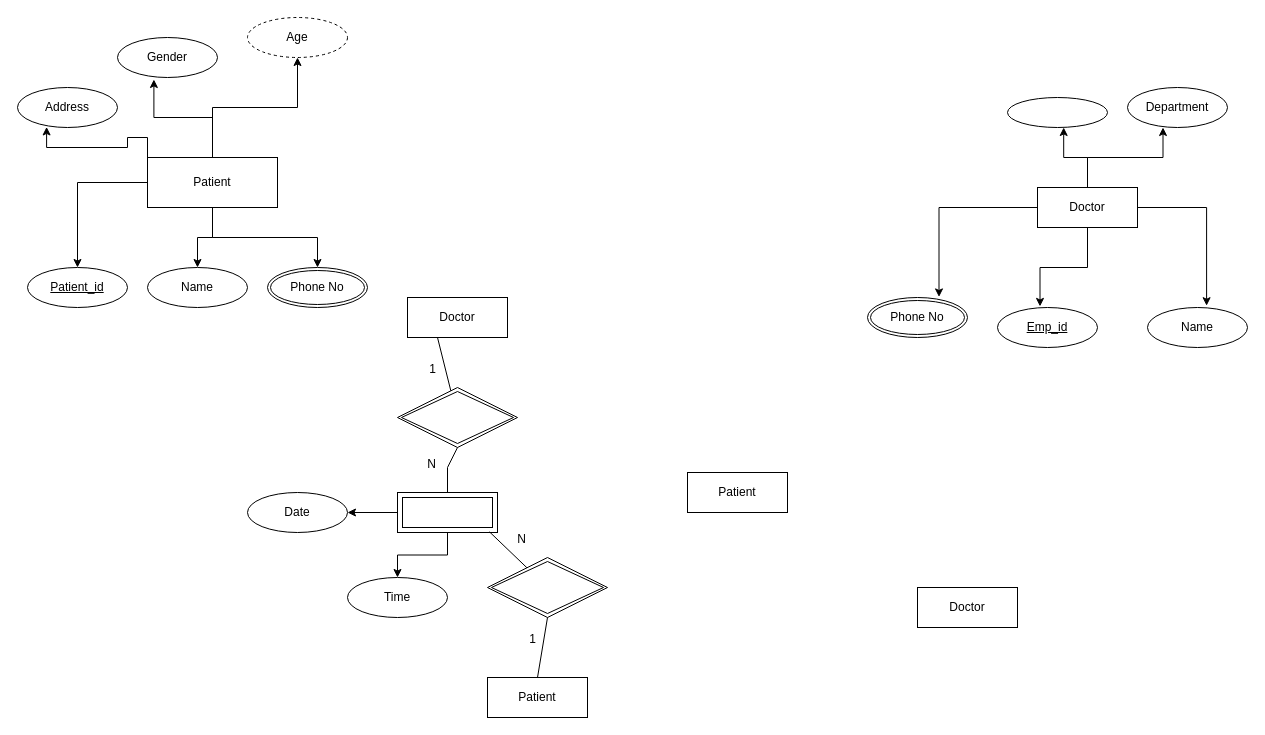
Image size: 1265x735. Some labels were removed from this diagram. Here are the shapes that lost their labels. From the top down, the centre of each, then its label:
At [1057,112]: "Specialization".
At [457,417]: "Attends".
At [447,512]: "Appointment".
At [547,587]: "Schedules".
